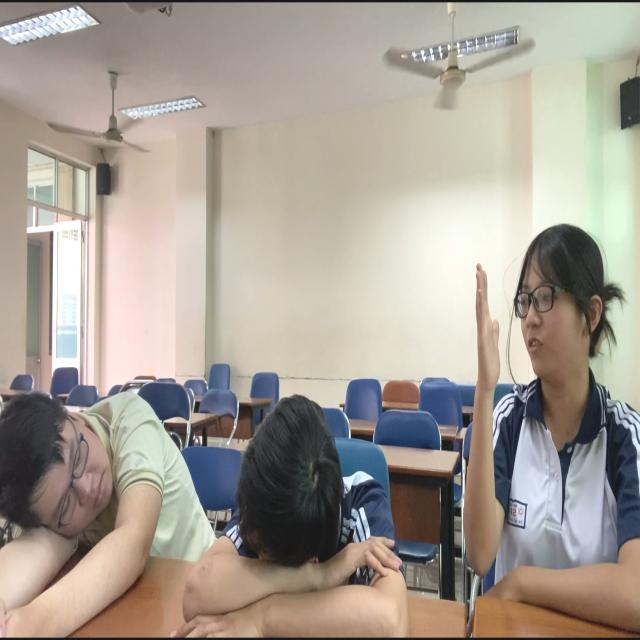raise_hand: (426, 181, 640, 640)
sleep: (148, 393, 429, 640), (1, 358, 203, 640)
